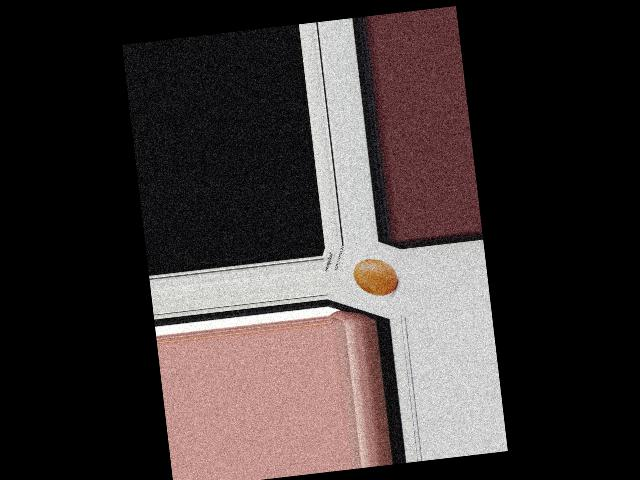egg: (352, 256, 399, 298)
